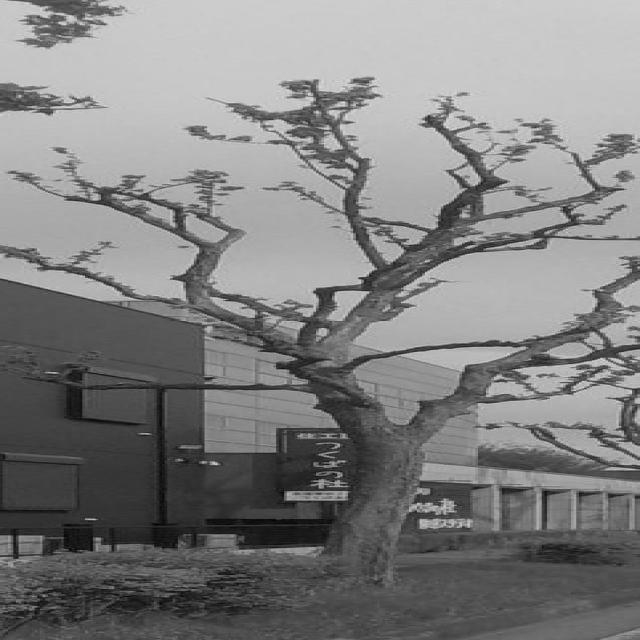maple: (0, 75, 640, 587)
